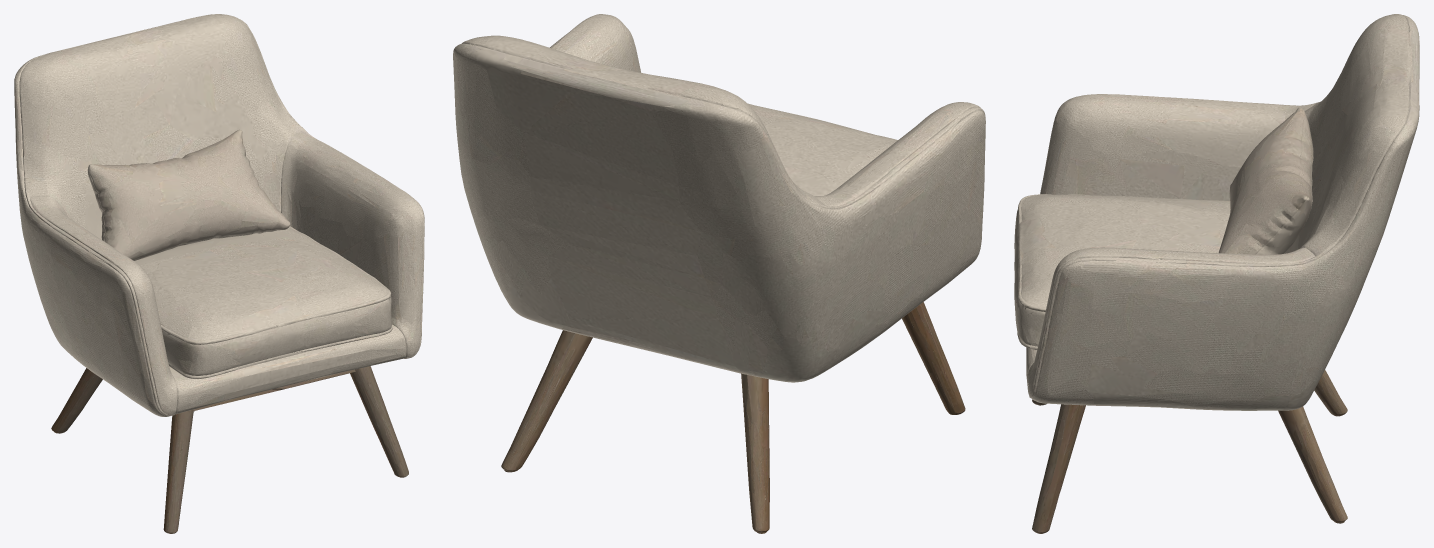
File: armchair.glb
3 renders of one model, left to right at view 1: azimuth 30°, elevation 25°; view 2: azimuth 150°, elevation 25°; view 3: azimuth 270°, elevation 25°, orthographic. The views are drawn at different scales.
Bounding box in the file's own units: 1.73 × 1.9 × 1.74.
1 material, 1 textured.
